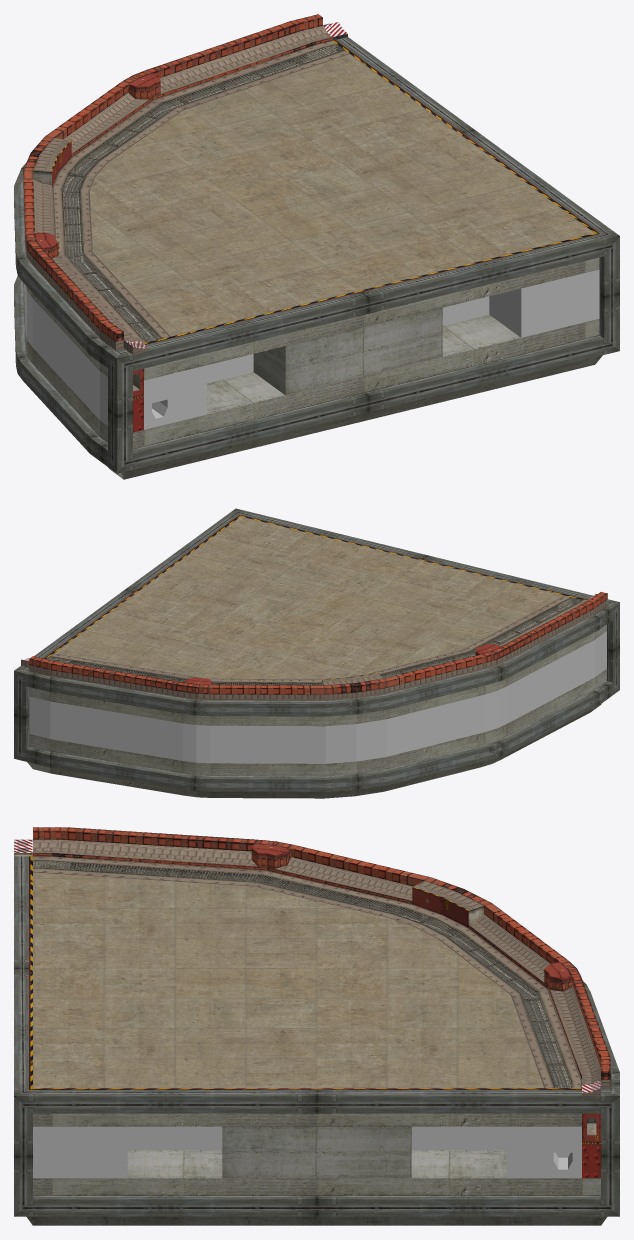
The model's file is WTP_H_RoundConvex_L.fbx.
3 views of the same model, one above another, from view 1: azimuth 30°, elevation 25°; view 2: azimuth 150°, elevation 25°; view 3: azimuth 270°, elevation 25° (orthographic). The views are drawn at different scales.
Parts seen in each view (by area): view 1: WTP_H_RoundConvex_L_Lod0; view 2: WTP_H_RoundConvex_L_Lod0; view 3: WTP_H_RoundConvex_L_Lod0.
Part boxes in pixels (x1=…): WTP_H_RoundConvex_L_Lod0: x1=14, y1=14, x2=619, y2=479; WTP_H_RoundConvex_L_Lod0: x1=14, y1=508, x2=619, y2=798; WTP_H_RoundConvex_L_Lod0: x1=14, y1=827, x2=619, y2=1225.
Size of the model in its own units: 32 by 9 by 32.
